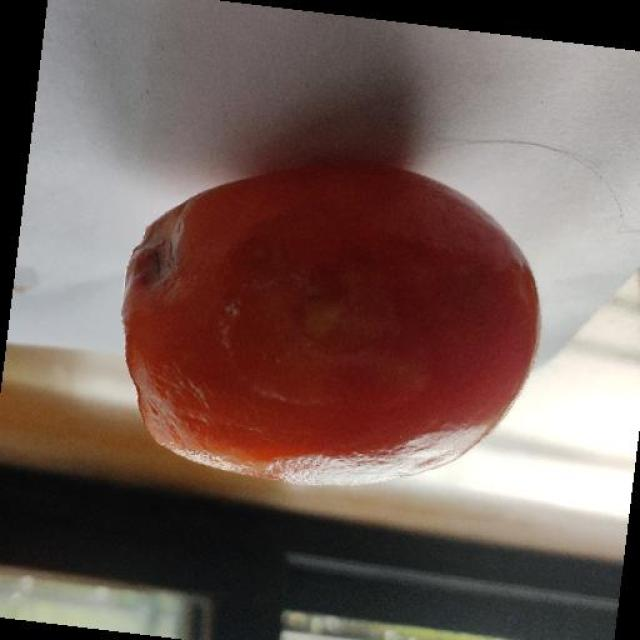Stale_tomato: (138, 194, 518, 466)
